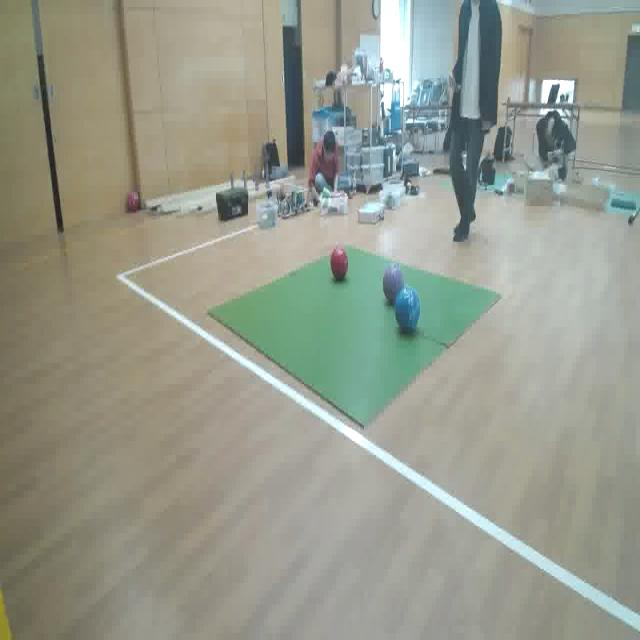blue_ball: (398, 288, 420, 330)
purple_ball: (383, 263, 403, 301)
red_ball: (332, 247, 348, 280)
